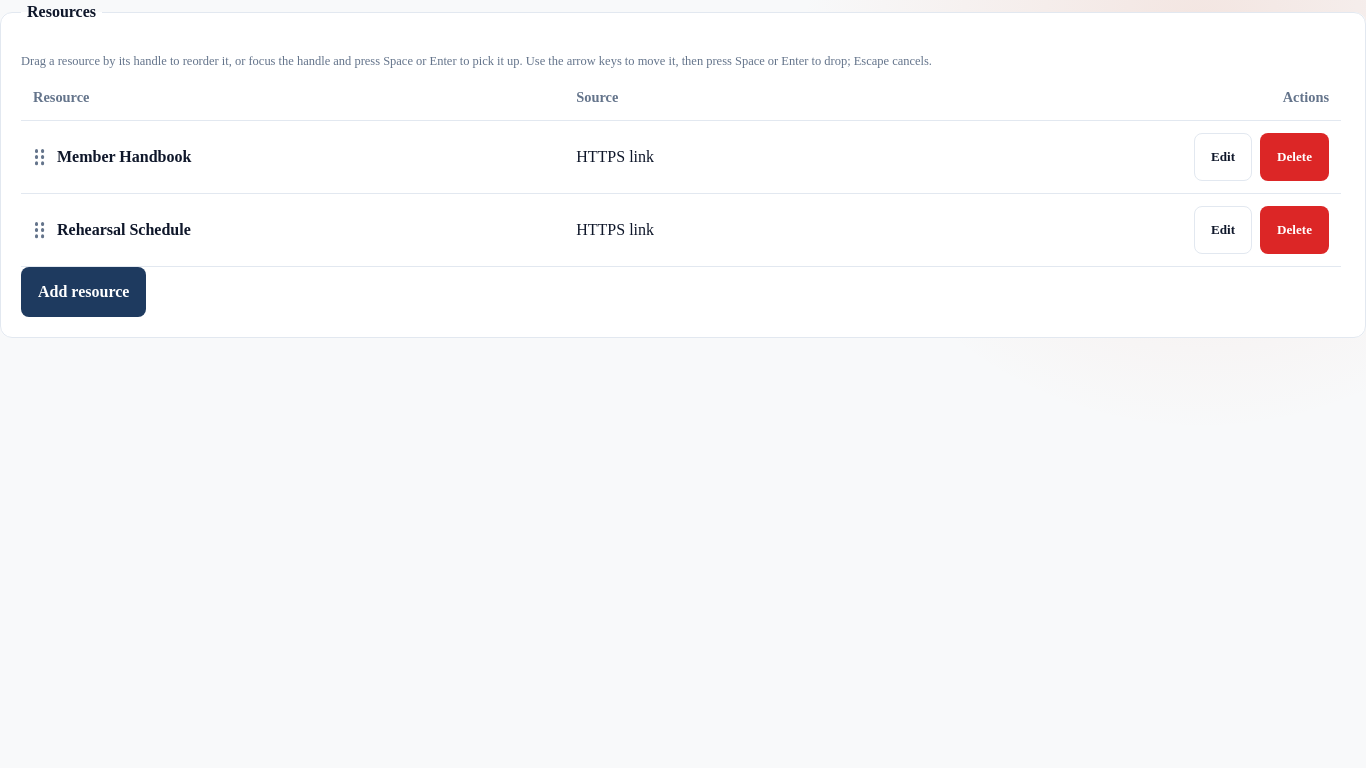
Test: OrganizationResources UI component › authoritatively refetches resources after manager deletes a resource
The image size is (1366, 768).
Check: the text "Member Handbook" is shown, box [57,148,191,165]
What coordinates should you click on to do the following:
click the button "Delete" in the row of "Member Handbook"
I would click on:
 (1295, 157)
Its box is [1260,133,1329,181].
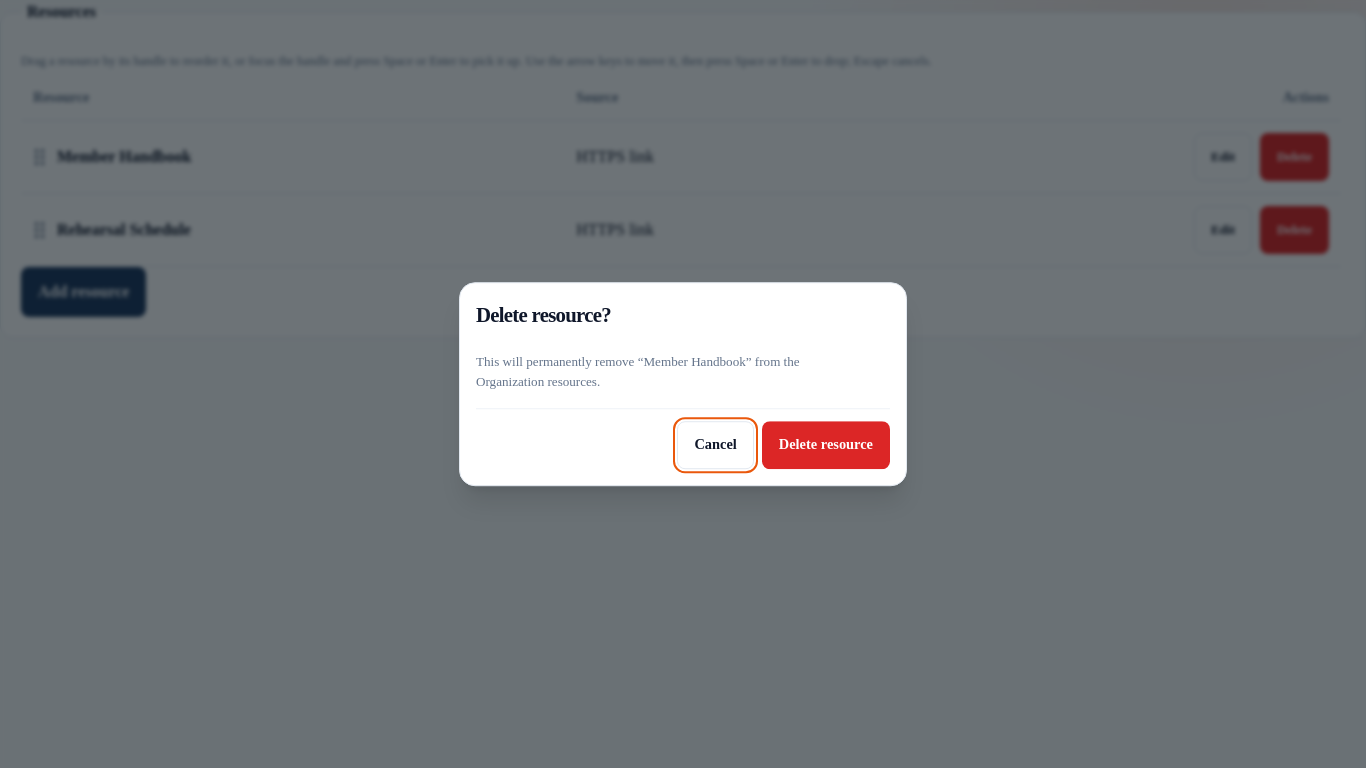
Confirmation dialog should appear
What coordinates should you click on to do the following:
click the button "Delete resource"
I would click on:
 (826, 445)
Its box is [762,421,890,469].
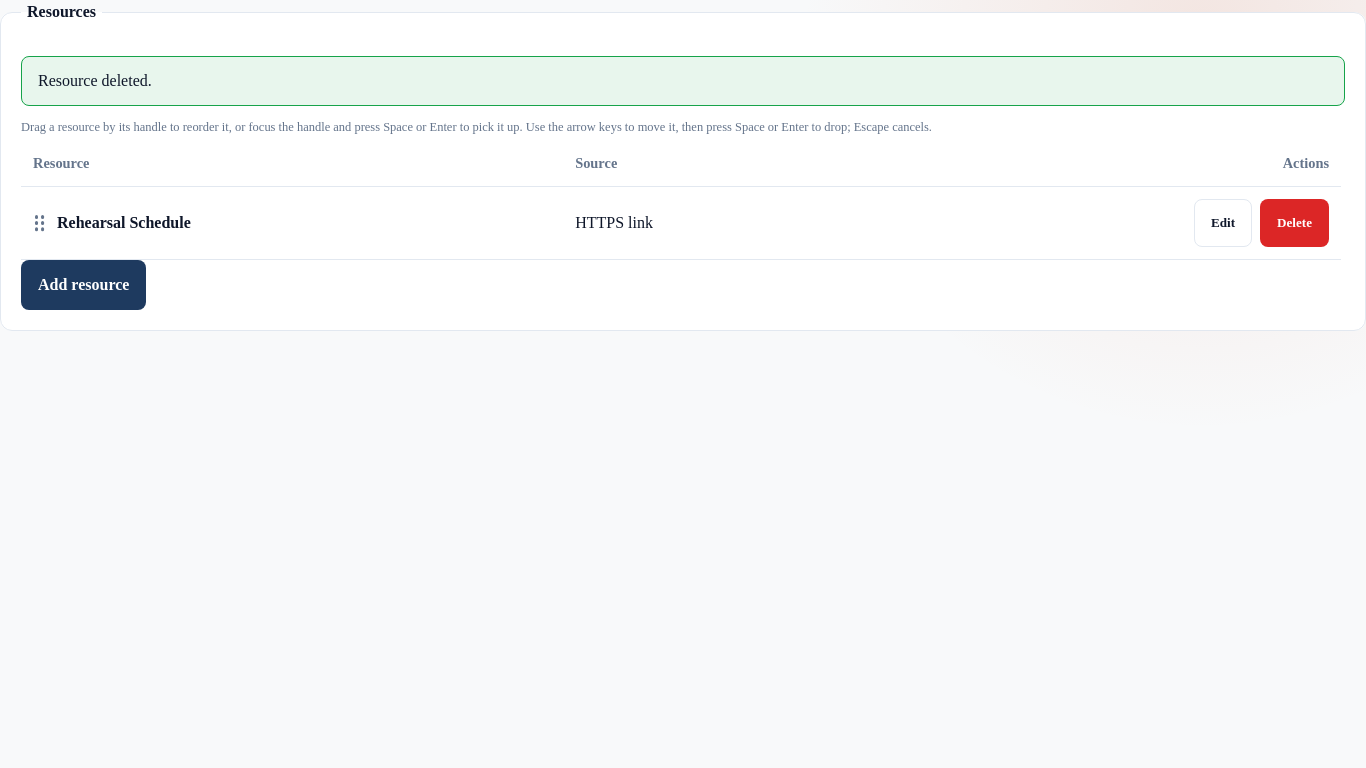
Check: the text "Rehearsal Schedule" is shown, box [57,214,191,231]
Check: the link "Member Handbook" is gone
